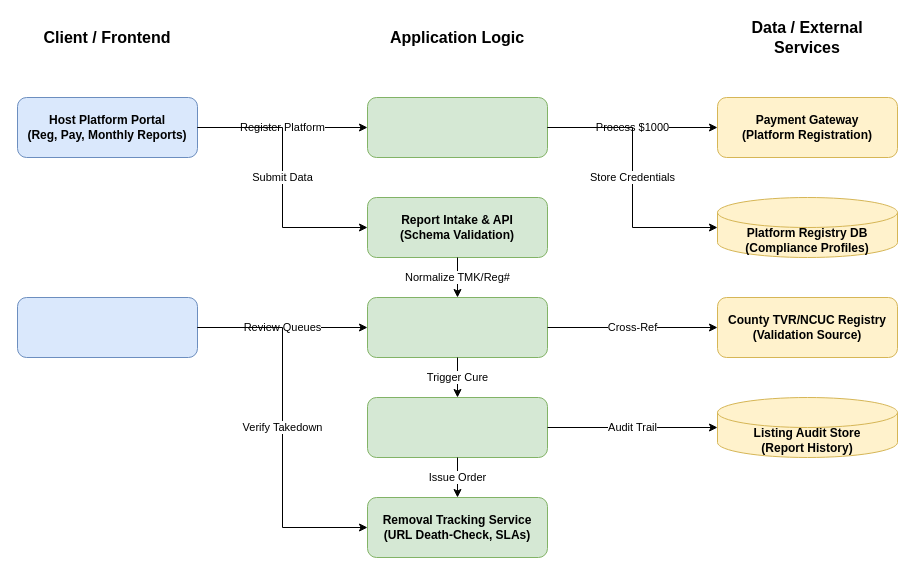
Image size: 915x575. Some labels were removed from this diagram. Here are the shapes that lost their labels. From the top down, the centre of each, then its label:
At [457,127]: "Platform Registration Serv. ($1k Fee, Terms, Contacts)".
At [107,327]: "Staff Operations UI (Validations, Removal SLAs)".
At [457,327]: "Auto-Listing Validator (vs TVR/TAT Registry)".
At [457,427]: "Platform Enforcement Engine (Cure Orders, Fines Lib)".
